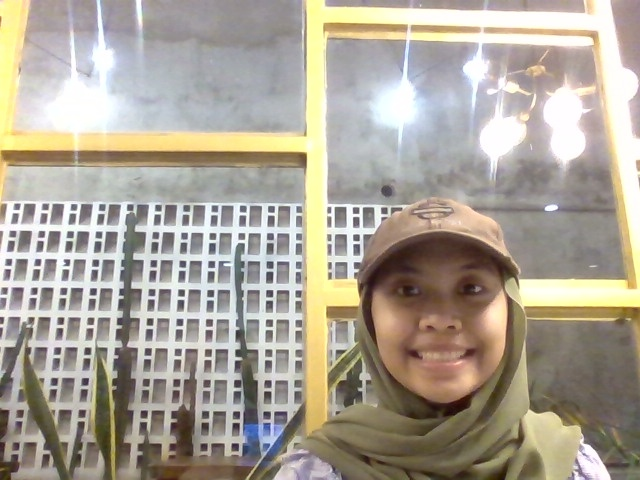Awake: (326, 186, 538, 478)
